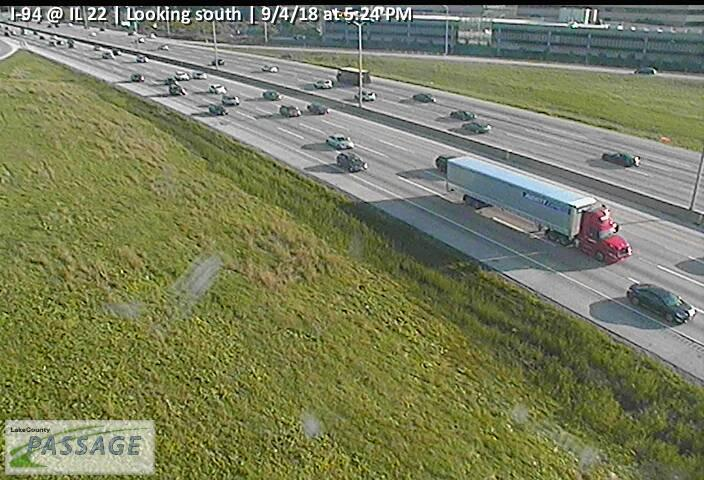Sedan: (626, 282, 697, 324), (602, 149, 641, 168), (335, 151, 367, 174), (326, 133, 355, 149), (460, 120, 492, 134), (278, 103, 302, 118), (450, 110, 477, 121), (411, 92, 438, 103), (306, 102, 329, 114), (207, 103, 228, 116), (354, 89, 376, 101), (221, 94, 240, 106), (313, 78, 333, 89), (208, 82, 226, 94), (262, 89, 283, 99)
Truck: (444, 153, 632, 265)
